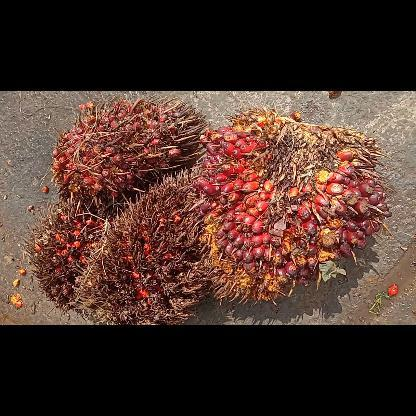TBS masak: (180, 105, 392, 306), (50, 93, 206, 215)
Terlalu masak: (70, 166, 212, 324), (20, 192, 116, 316)
